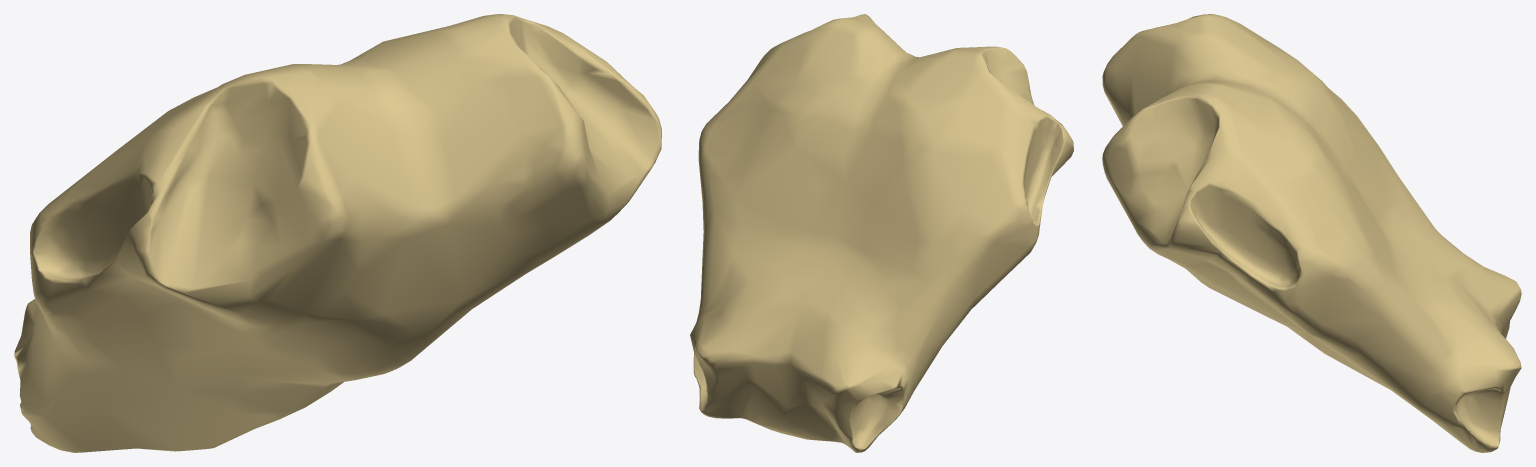
3 views of the same model, side by side, from view 1: azimuth 30°, elevation 25°; view 2: azimuth 150°, elevation 25°; view 3: azimuth 270°, elevation 25° (orthographic). The views are drawn at different scales.
Visible parts, largest first — view 1: 胸骨柄; view 2: 胸骨柄; view 3: 胸骨柄.
Part boxes in pixels (box(x1,y1,x2,y2)): 胸骨柄: box(14, 14, 661, 452); 胸骨柄: box(690, 14, 1073, 452); 胸骨柄: box(1102, 14, 1521, 452).
Size of the model in its own units: 0.0841 by 0.077 by 0.0795.
